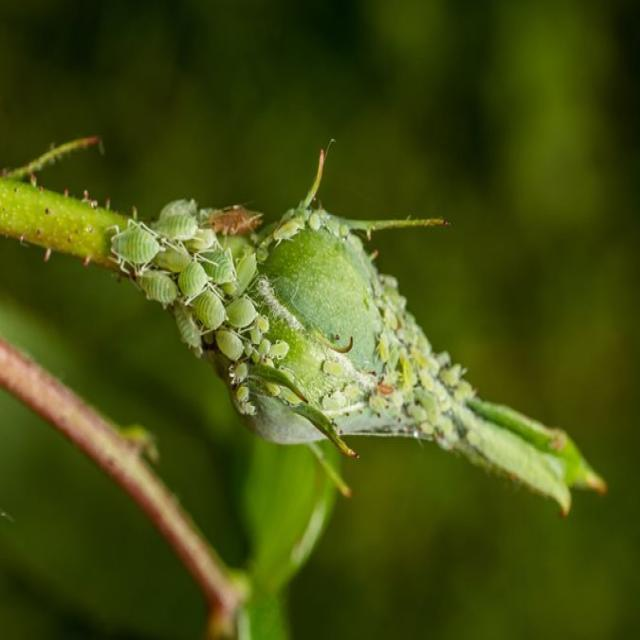aphid: (98, 209, 166, 273), (137, 258, 182, 313), (170, 256, 218, 306), (221, 296, 274, 340), (151, 193, 200, 239), (187, 282, 227, 326)
